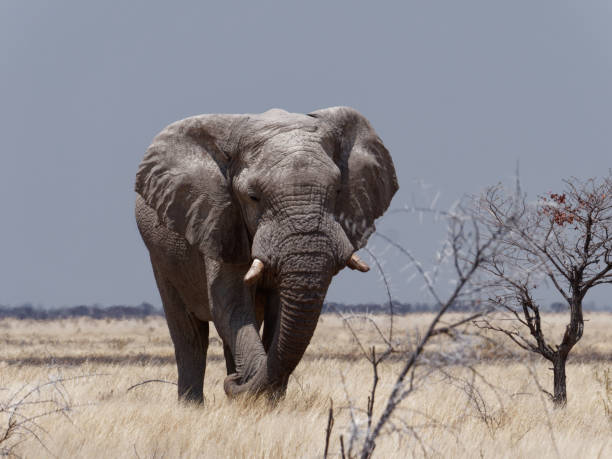africanelephant: (245, 109, 345, 320)
